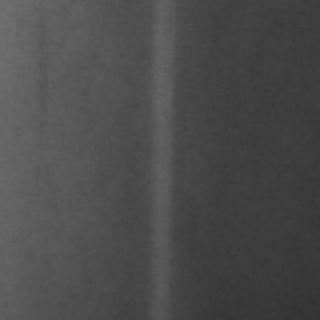scratches: (148, 11, 176, 302)
